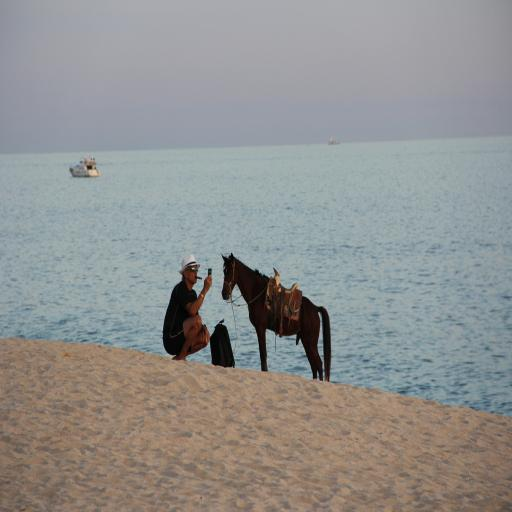horse: (221, 250, 331, 382)
